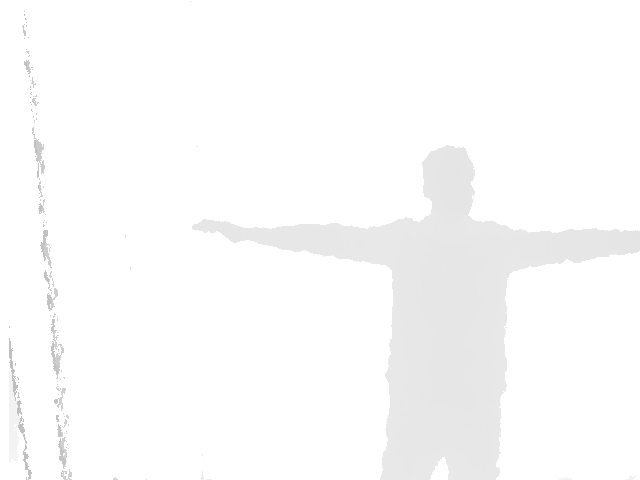head: (421, 144, 476, 212)
person: (192, 145, 640, 480)
